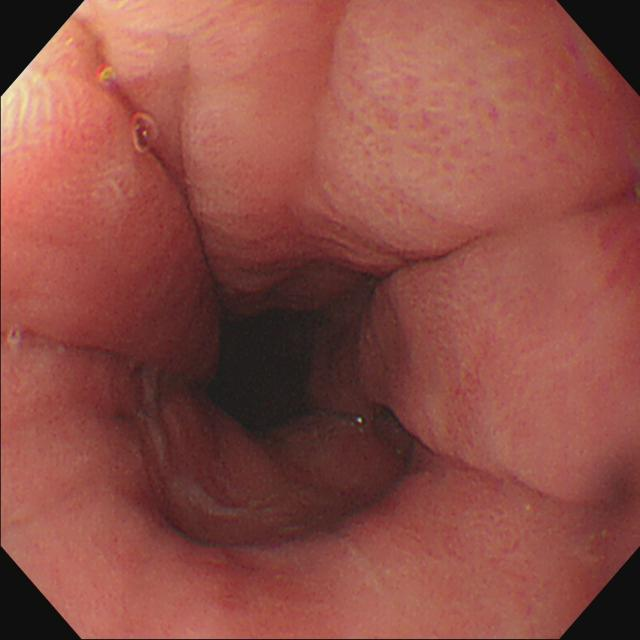A: (333, 22, 519, 208), (436, 284, 488, 460)
E: (207, 315, 309, 429)
